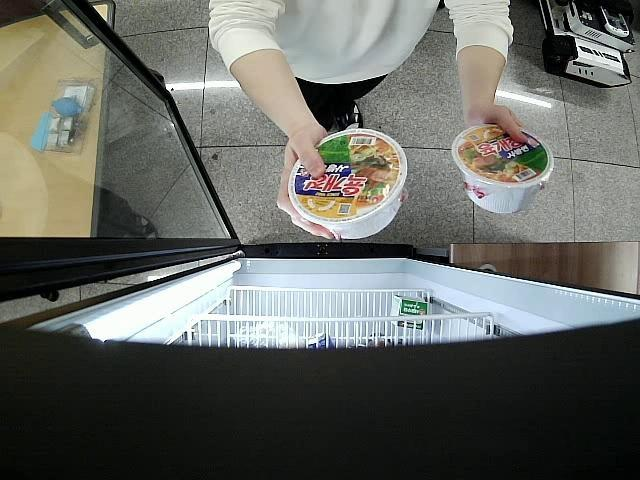09_yukGaeJang: (288, 129, 406, 238), (451, 125, 554, 214)
